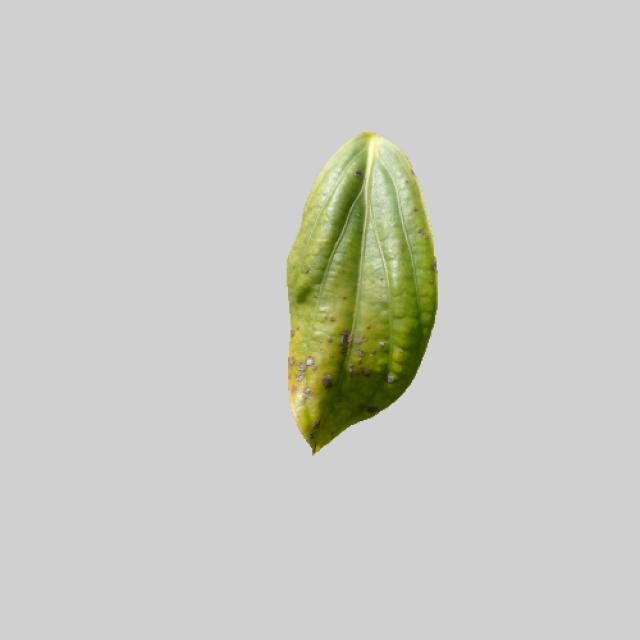yellow-mottle-virus: (283, 132, 436, 454)
